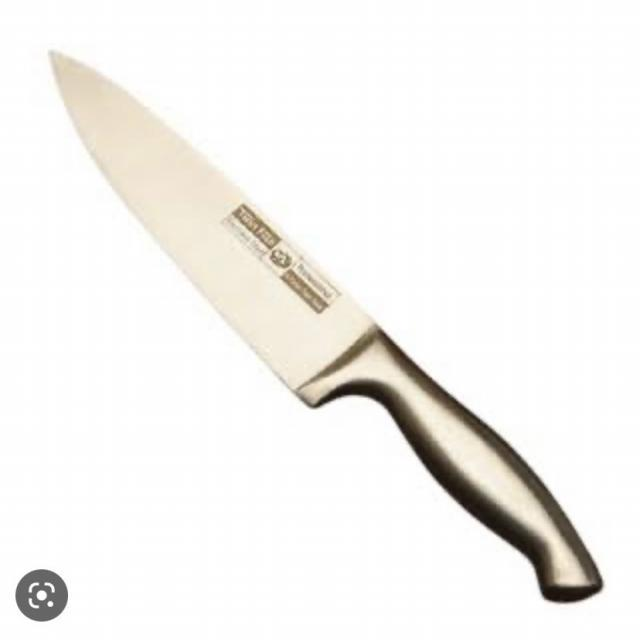Knife: (41, 38, 610, 607)
